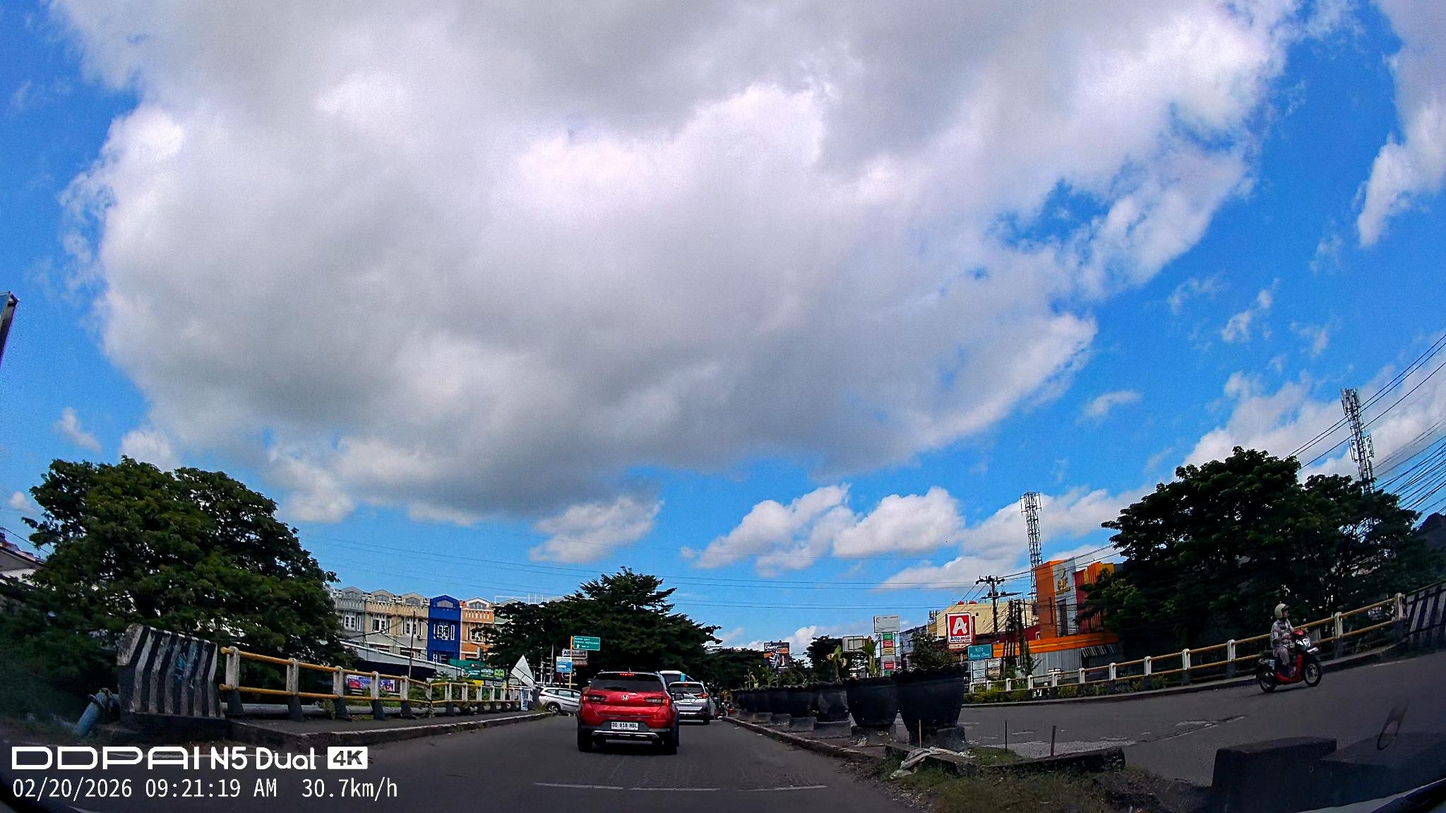rambu_teks: (574, 636, 600, 651)
